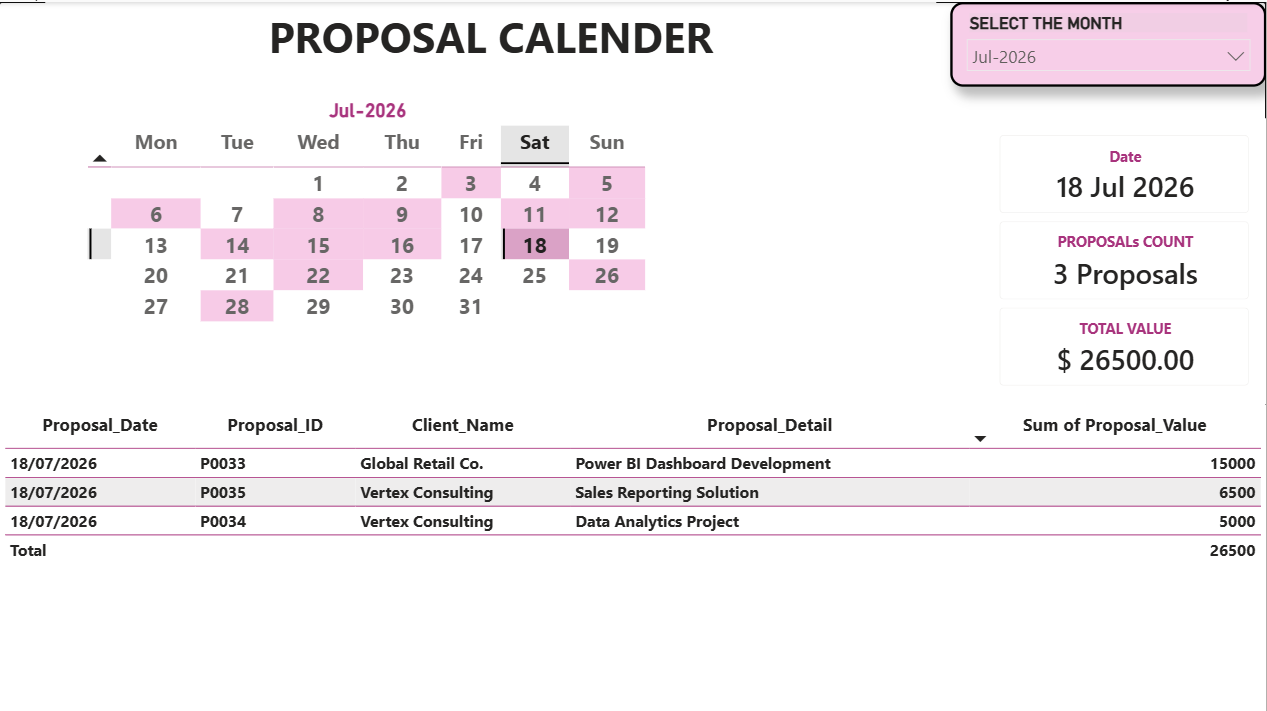

This screenshot's page, from the dashboard's own definition file:
{"tool":"powerbi","page":{"name":"Page 1","canvas":[1280,720],"ordinal":0},"visuals":[{"type":"pivotTable","fields":{"Columns":["DIM_DATE.DAY_NAME"],"Values":["Sum(DIM_DATE.DAY)"],"Rows":["DIM_DATE.WEEK NUM"]},"box":[84.4,99,576,306.9],"z":0},{"type":"slicer","fields":{"Values":["DIM_DATE.MONTH-YEAR"]},"box":[960.8,0,319.4,85.9],"z":1000},{"type":"textbox","box":[46.7,0,900.2,67.2],"z":2000},{"type":"tableEx","fields":{"Values":["FACT_PROPOSALS.Proposal_Date","FACT_PROPOSALS.Proposal_ID","FACT_PROPOSALS.Client_Name","FACT_PROPOSALS.Proposal_Detail","Sum(FACT_PROPOSALS.Proposal_Value)"]},"box":[0,406.2,1280.3,314.2],"z":3000},{"type":"cardVisual","fields":{"Data":["ALL MEASURES.SELECTED DATE vis","ALL MEASURES.PROPOSAL COUNT LABEL","ALL MEASURES.TOTAL VALUE"]},"box":[993.7,117.4,286.6,289.1],"z":3001}]}

Visuals, with their boxes in screenshot pixels (x1, y1, x2, y2), scaled from the page's 1280x720 canvas onto the 1267x711 screenshot:
pivotTable - DIM_DATE.DAY_NAME x Sum(DIM_DATE.DAY): (84, 98, 654, 401)
slicer - DIM_DATE.MONTH-YEAR: (951, 0, 1266, 85)
textbox: (46, 0, 937, 66)
tableEx - FACT_PROPOSALS.Proposal_Date x FACT_PROPOSALS.Proposal_ID: (0, 401, 1266, 710)
cardVisual - ALL MEASURES.SELECTED DATE vis x ALL MEASURES.PROPOSAL COUNT LABEL: (984, 116, 1266, 401)
